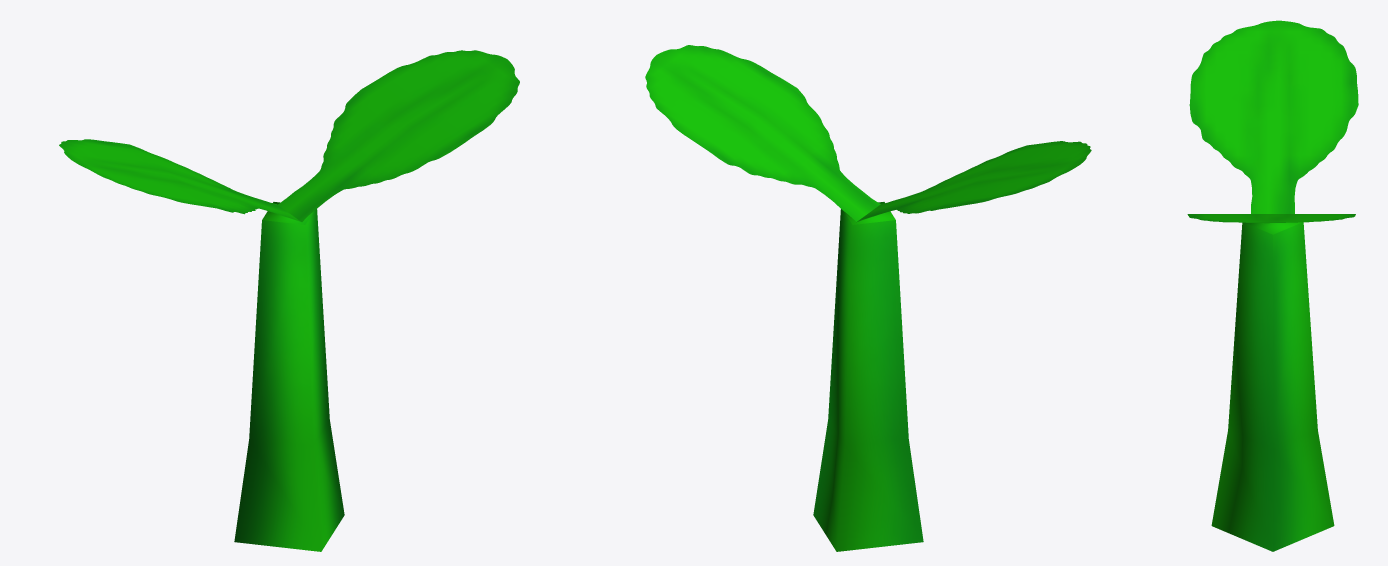
File: Vegetables02_a01.FBX
The picture shows the model from 3 angles, left to right: view 1: azimuth 30°, elevation 25°; view 2: azimuth 150°, elevation 25°; view 3: azimuth 270°, elevation 25°; orthographic projection. The views are drawn at different scales.
Parts seen in each view (by area): view 1: Vegetables02_a01; view 2: Vegetables02_a01; view 3: Vegetables02_a01.
Part boxes in pixels (bbox=[...]): Vegetables02_a01: bbox=[59, 50, 519, 551]; Vegetables02_a01: bbox=[645, 45, 1091, 551]; Vegetables02_a01: bbox=[1187, 20, 1358, 551].
Bounding box in the file's own units: 29.87 × 27.01 × 12.14.
1 material, 1 textured.
